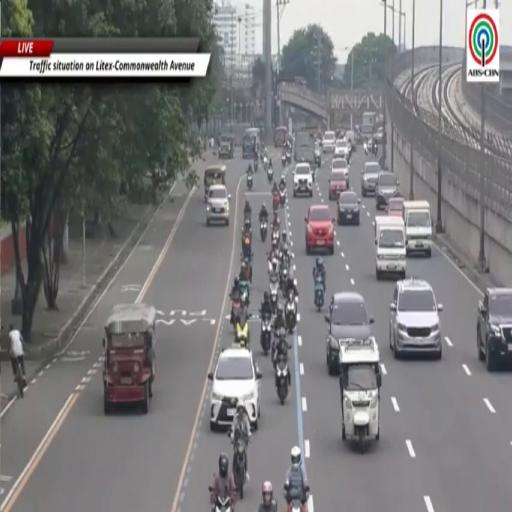bus: (274, 126, 288, 148)
car: (208, 346, 262, 430), (390, 279, 443, 359), (325, 292, 374, 375), (477, 287, 511, 371), (305, 205, 334, 254), (206, 185, 230, 226), (376, 171, 399, 210), (337, 190, 360, 225), (292, 162, 314, 197), (361, 162, 380, 197), (329, 170, 347, 200), (331, 157, 349, 187), (387, 198, 404, 217), (322, 132, 335, 153), (334, 139, 348, 158), (315, 142, 322, 168)
jeepney: (104, 304, 156, 414), (339, 338, 381, 452), (204, 165, 226, 202), (219, 134, 234, 158)
motorcycle: (233, 438, 247, 499), (271, 332, 291, 370), (276, 355, 289, 405), (285, 291, 297, 332), (236, 314, 250, 348), (261, 313, 271, 356), (230, 297, 243, 326), (270, 275, 279, 313), (212, 494, 232, 511), (315, 276, 324, 311), (268, 250, 279, 274), (280, 252, 292, 271), (243, 258, 252, 283), (240, 281, 249, 305), (280, 267, 288, 292), (287, 500, 305, 511), (260, 220, 267, 242), (271, 231, 279, 250), (271, 230, 279, 247), (266, 166, 274, 182), (273, 191, 279, 212), (247, 174, 253, 190), (280, 188, 285, 206), (263, 156, 268, 170), (286, 151, 291, 164), (363, 142, 368, 155), (312, 166, 316, 182), (282, 155, 287, 167), (260, 150, 264, 164), (254, 158, 258, 172)
truck: (294, 130, 316, 169), (362, 111, 377, 136)
